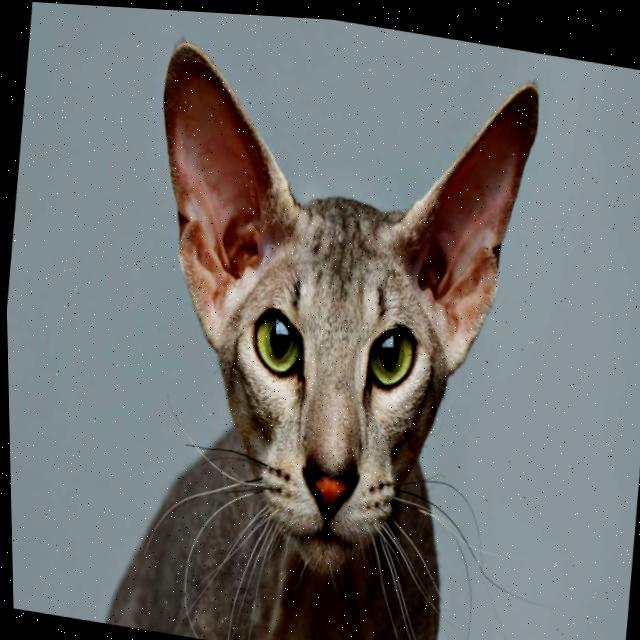Oriental: (80, 9, 553, 640)
